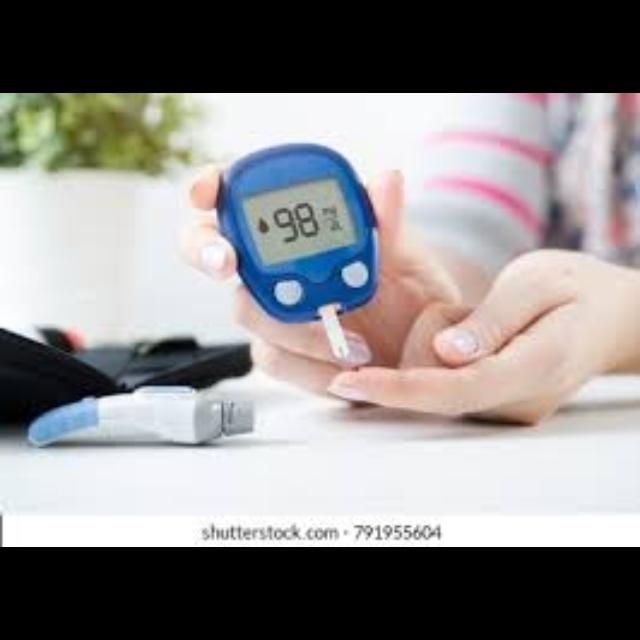Glucose-Meter: (218, 145, 378, 361)
